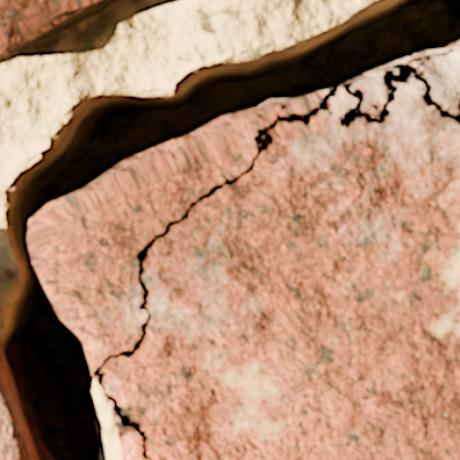brick: (101, 80, 459, 459), (0, 0, 116, 56), (0, 342, 36, 459), (419, 51, 459, 114), (114, 413, 142, 459)
crack: (0, 0, 459, 459)
